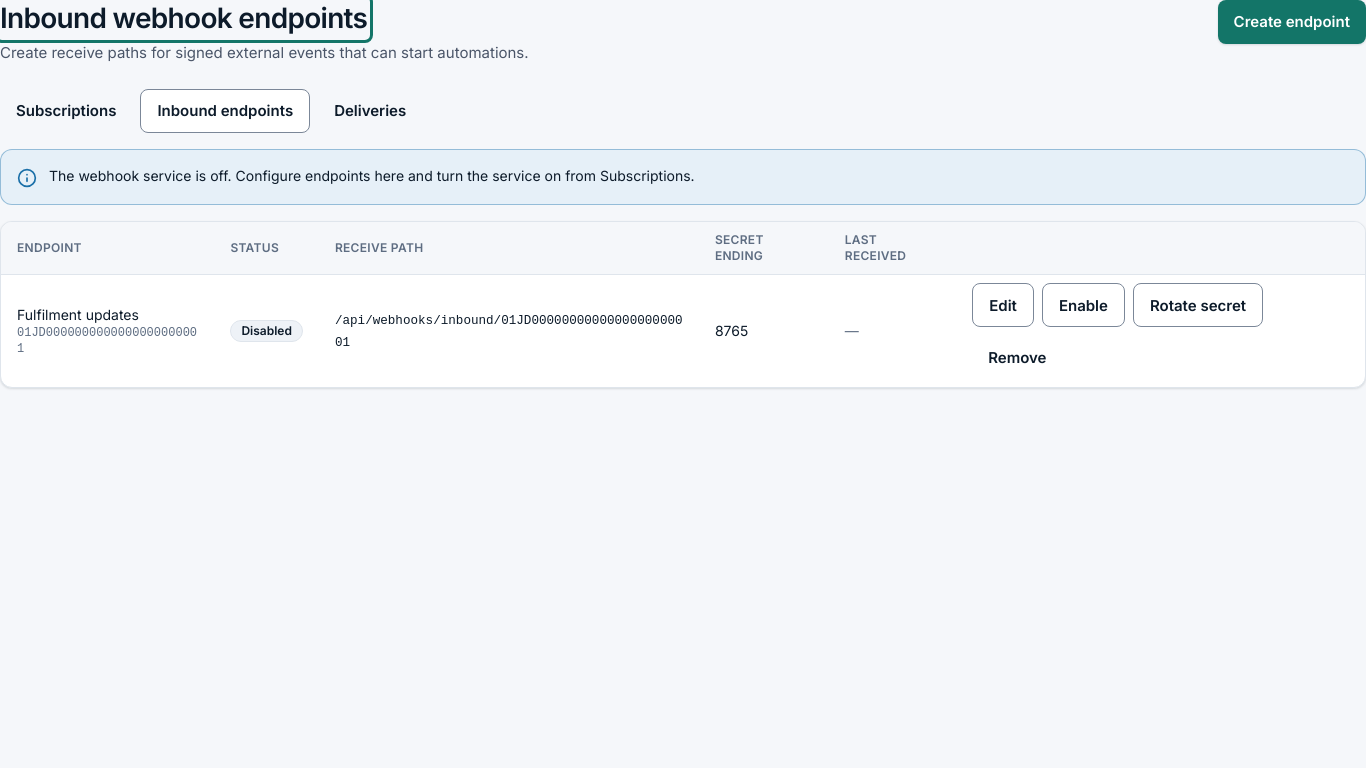
Test case: Webhooks administration › rotates an inbound endpoint secret only after confirmation and keeps the receive path unchanged
Click the button "Rotate secret". click: {"x": 1198, "y": 305}
box: [1133,283,1263,327]
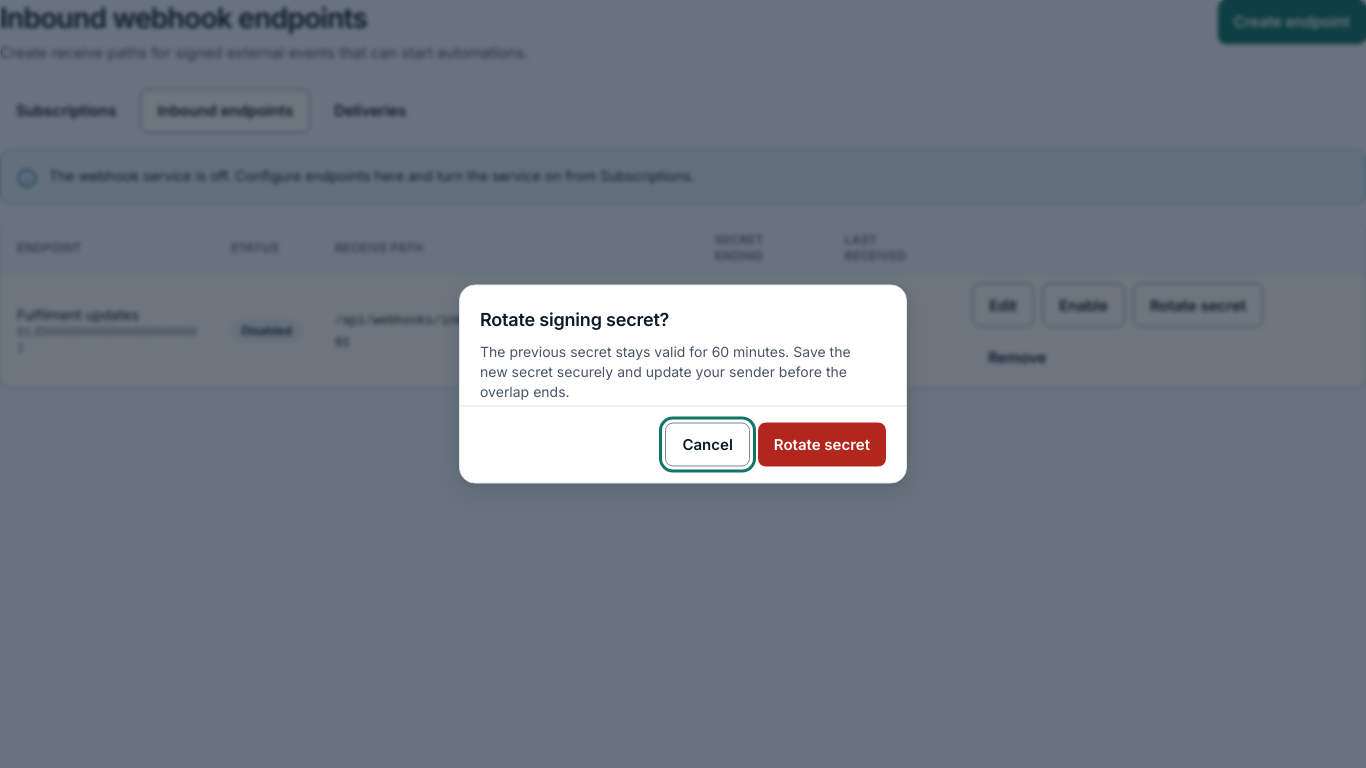
Click the button "Rotate secret". click: {"x": 822, "y": 444}
box: [758,422,886,466]
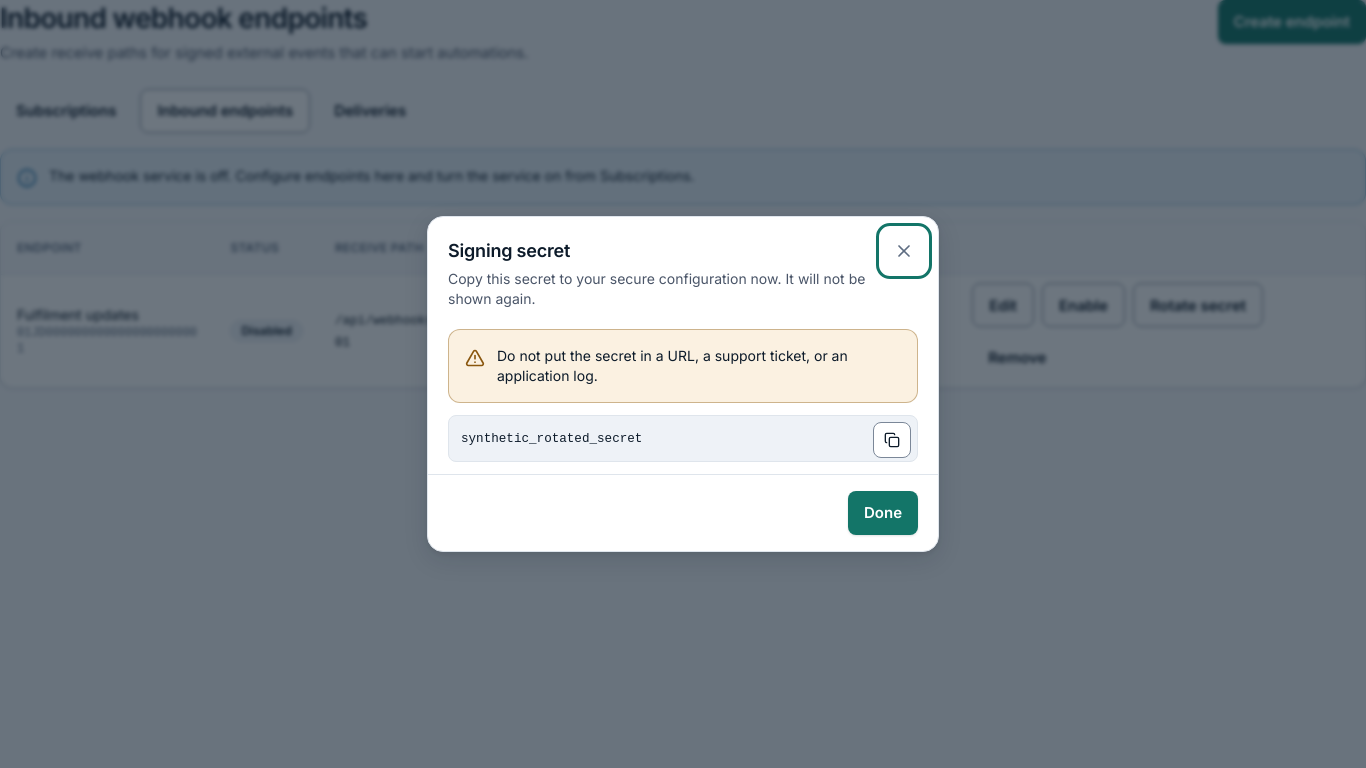
Expected: the text "synthetic_rotated_secret" is shown, [461,432,642,446]
